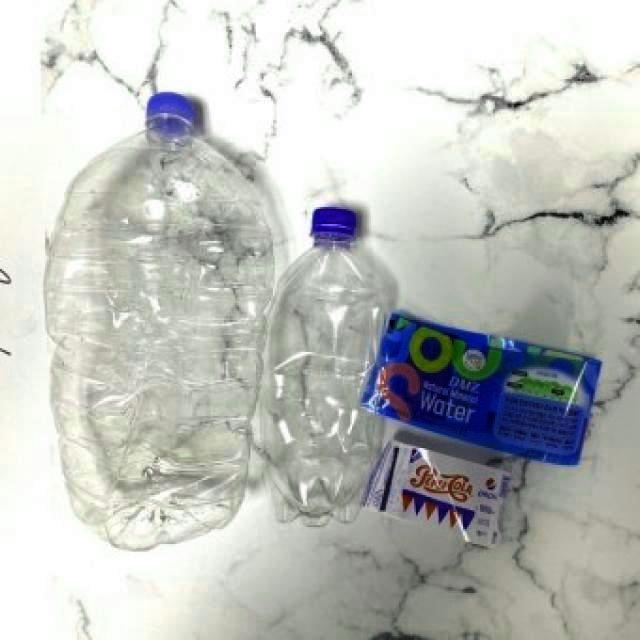bottle: (43, 92, 262, 548), (262, 207, 397, 520)
